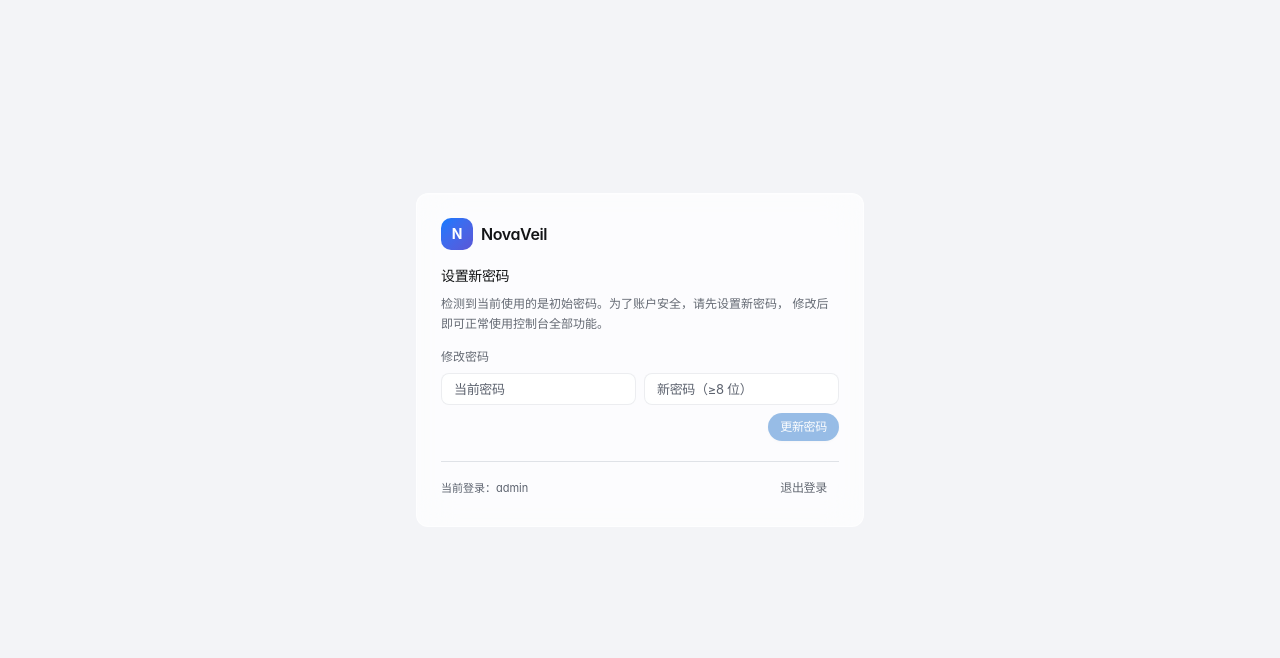
Test case: <App /> 首登强制改密 › 改密成功后自动进入控制台，无需刷新
Expected: the heading "设置新密码" is shown, x1=441 y1=267 x2=509 y2=284
Type "old-password" into the password field with placeholder "当前密码" at (538, 389), box x1=441 y1=373 x2=636 y2=405
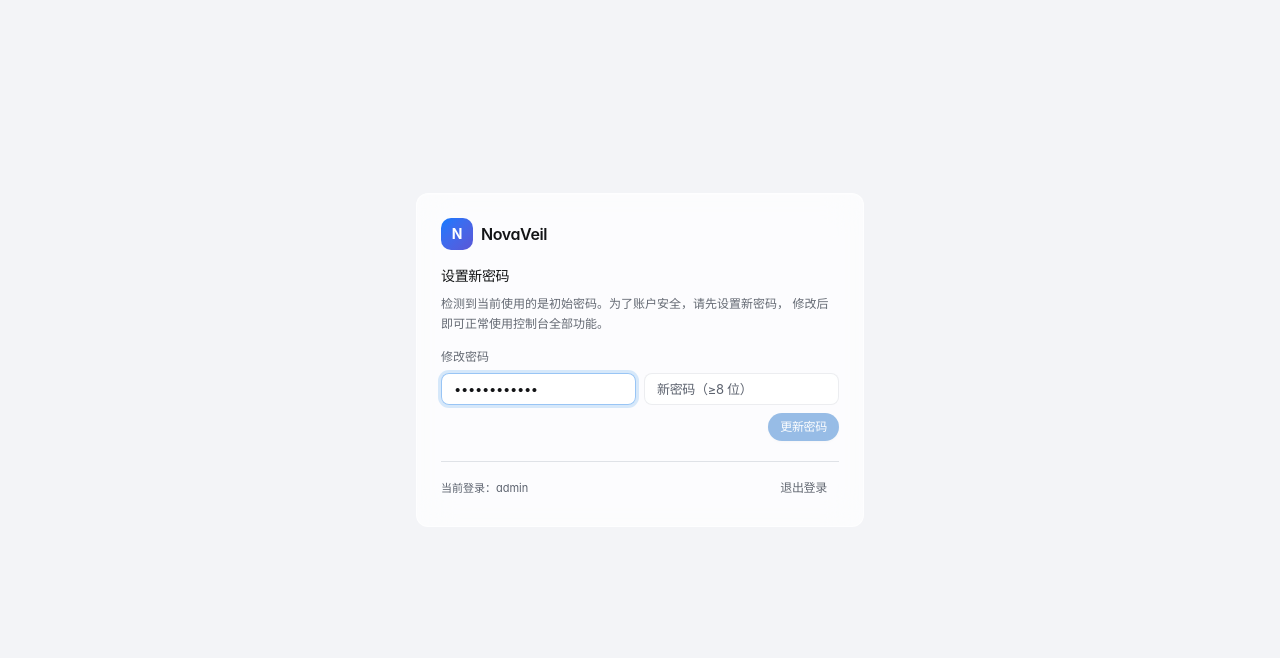
Type "new-password-123" into the password field with placeholder "新密码（≥8 位）" at (742, 389), box x1=644 y1=373 x2=839 y2=405
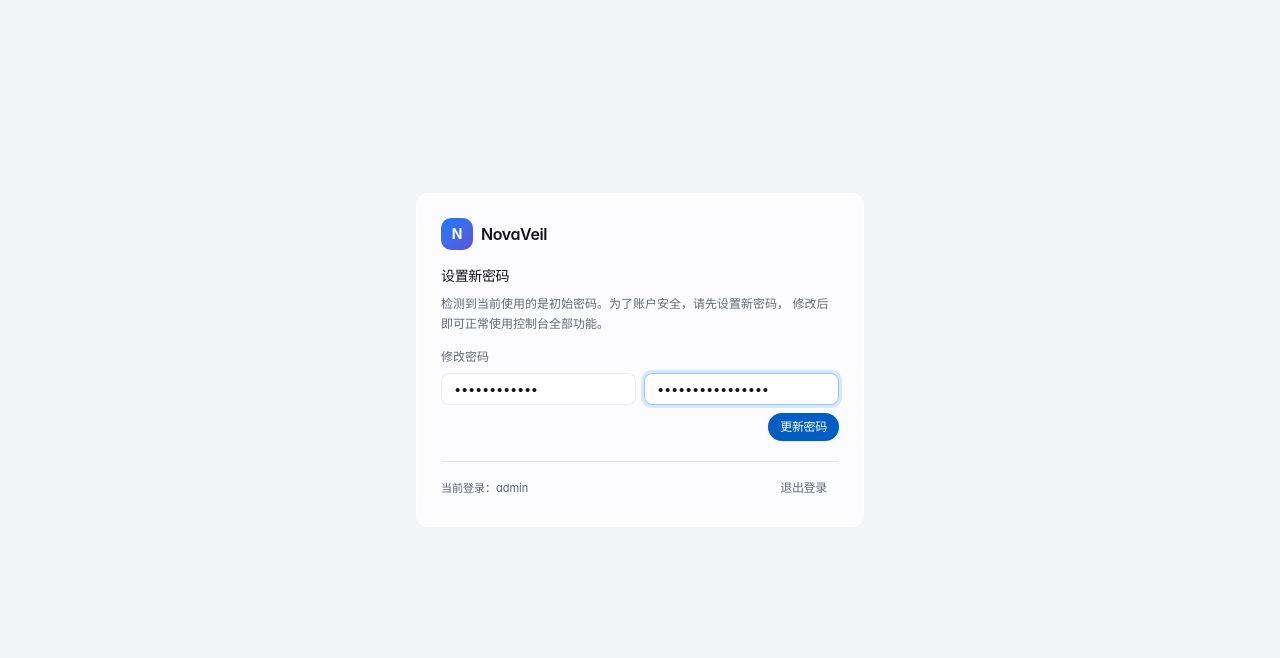
Click the button "更新密码" at (804, 427), box x1=768 y1=413 x2=839 y2=441
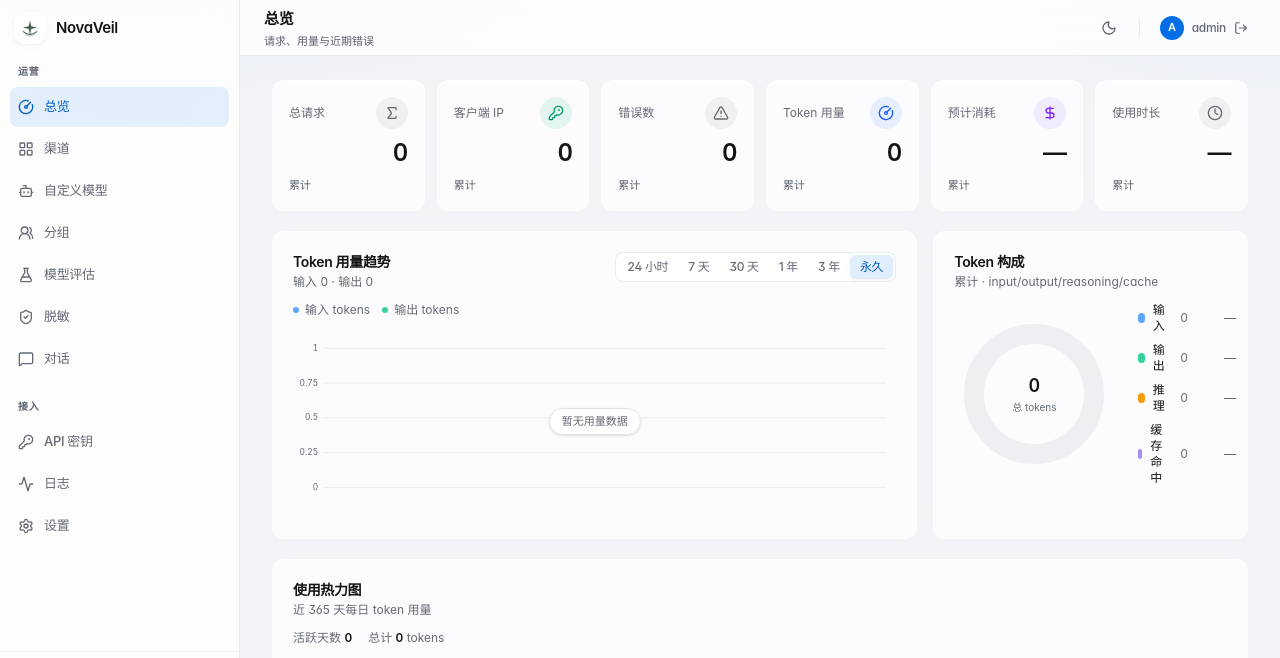
Expected: the text "总请求" is shown, x1=289 y1=105 x2=325 y2=121
